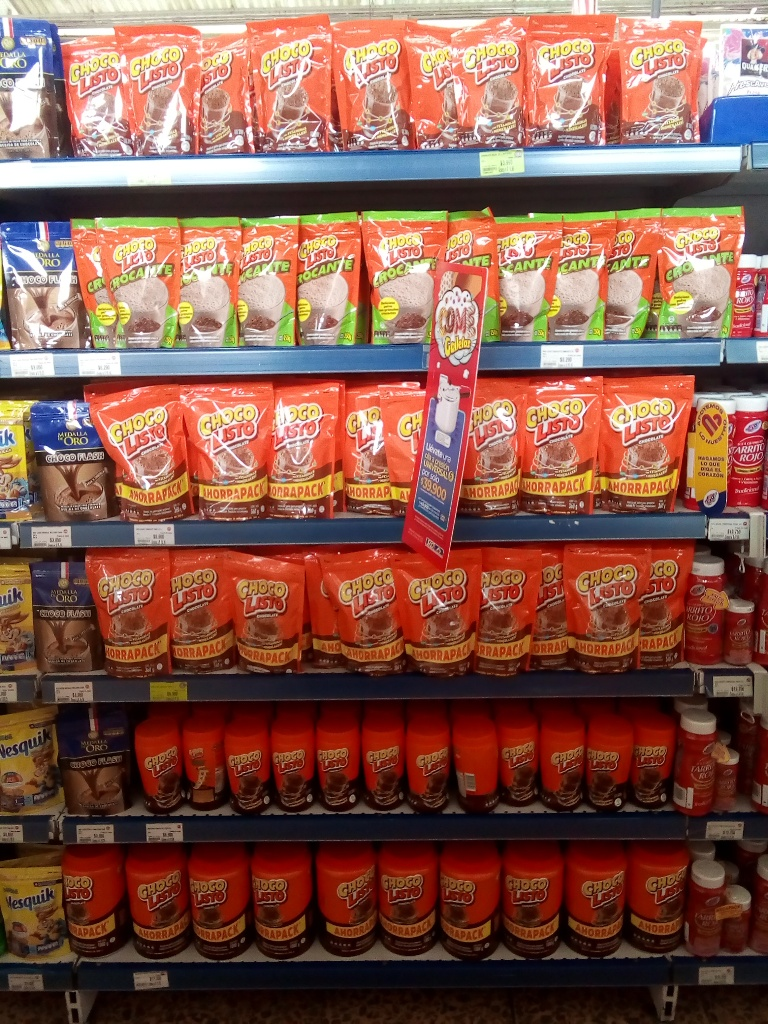COL0170102DYP25000: (71, 212, 119, 346)
COL0170103DYP20000: (617, 16, 706, 144)
COL0170103DYP36000: (599, 371, 697, 512)
COL0170103TRR00100: (628, 840, 691, 952)
COL0170103TRR30000: (635, 713, 682, 808)
COL0170303DYP20000: (0, 868, 71, 962)
